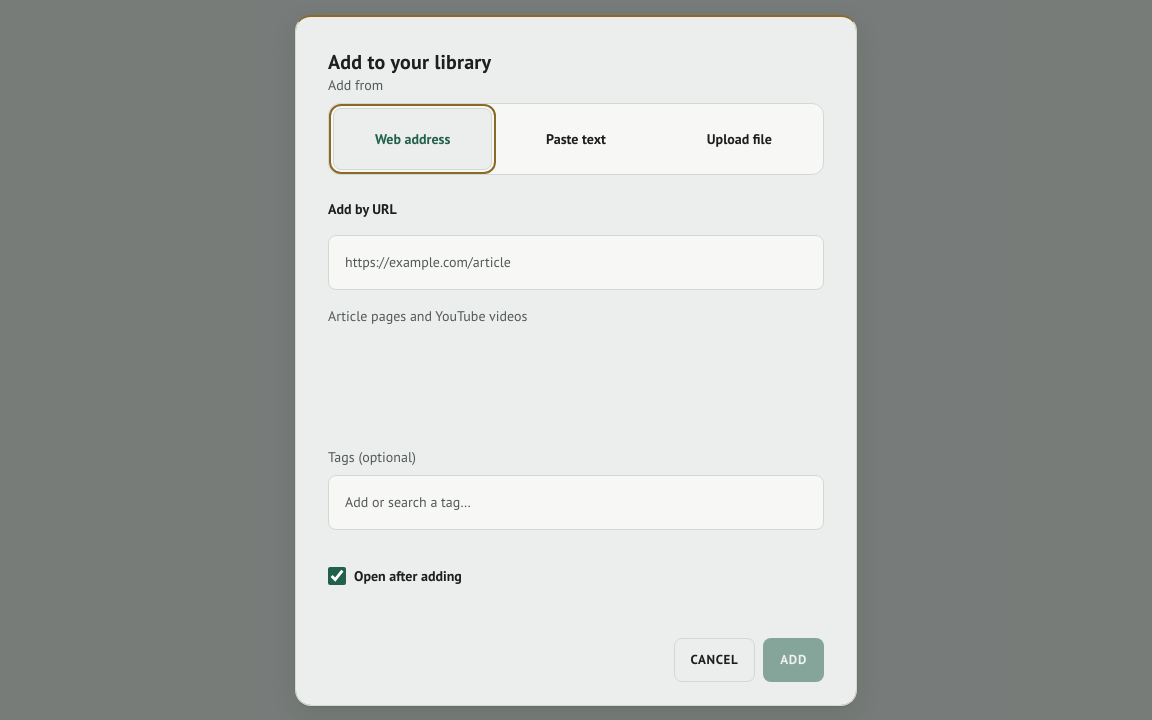
Test: AddDialog (16-02 Task 2) › maps ssrf-blocked-metadata to a calm DOC-06 phrase (no jargon)
Type "http://169.254.169.254/" into the field labelled "Add by URL" at coordinates (576, 263), box x1=328 y1=235 x2=824 y2=290
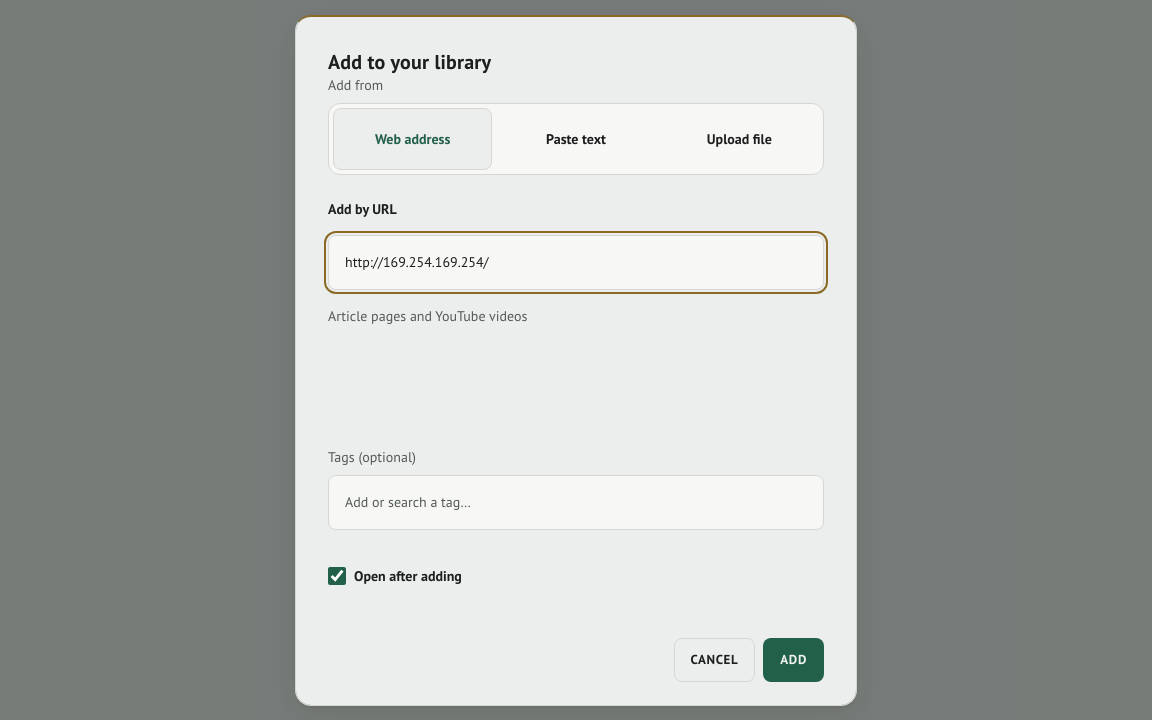
Click the button "Add" at coordinates (794, 660), box x1=763 y1=638 x2=824 y2=682
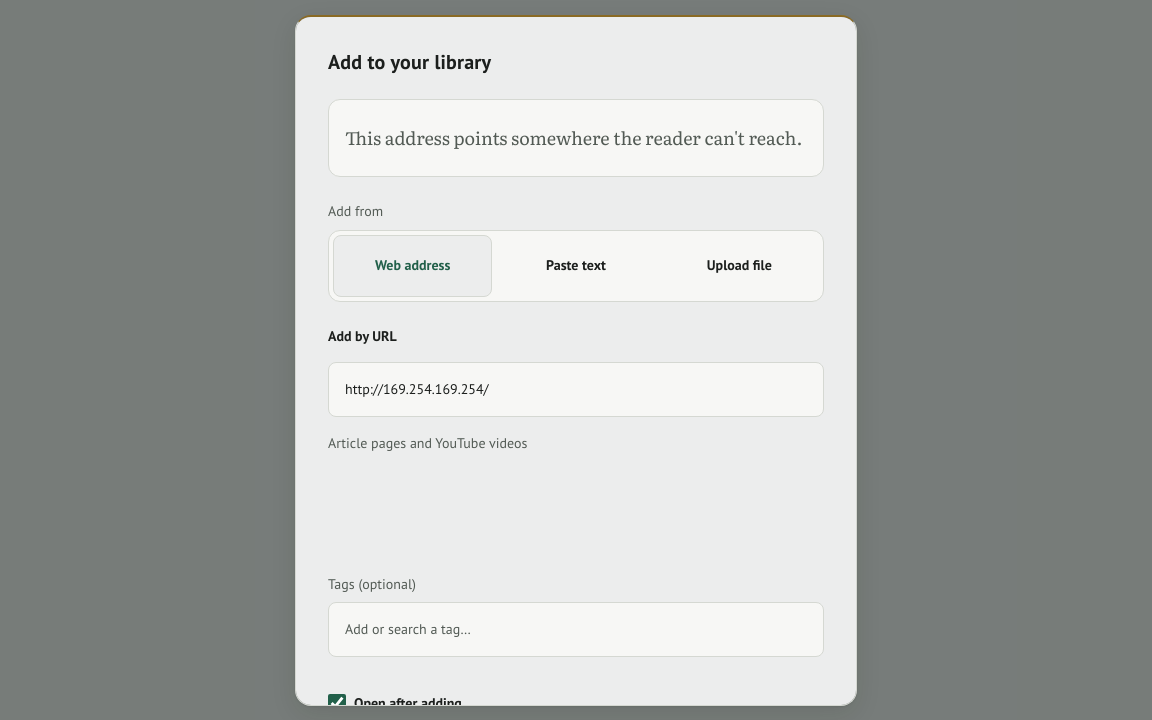
Expected: the text "This address points somewhere the reader can't reach." is shown, x1=345 y1=124 x2=807 y2=152
